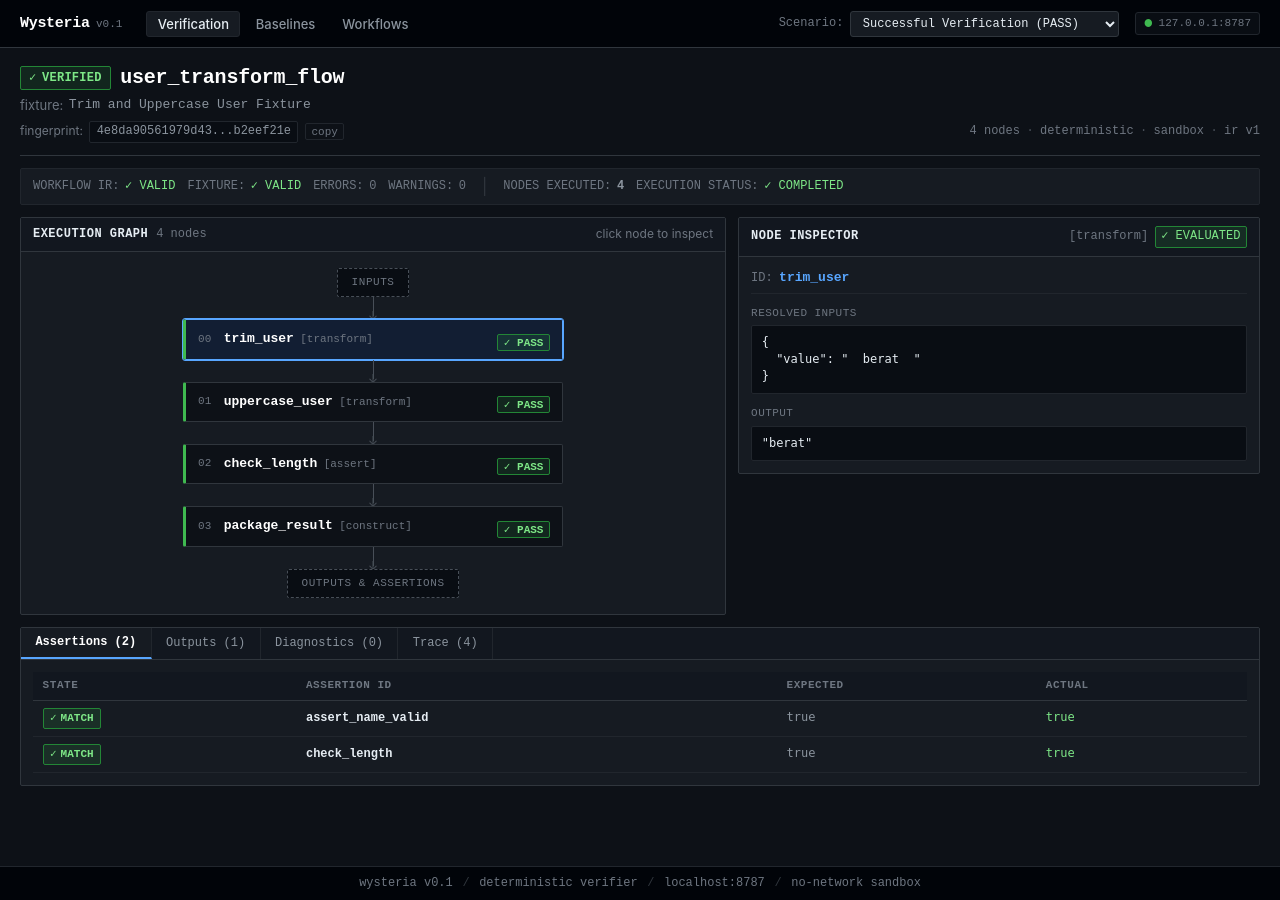
it: Wysteria Engineering UI & Integration › navigates between Verification, Workflows, and Baselines tabs
The image size is (1280, 900).
Note: Navigate to Workflows
Click the button "Workflows": (375, 24) [331,10,420,36]
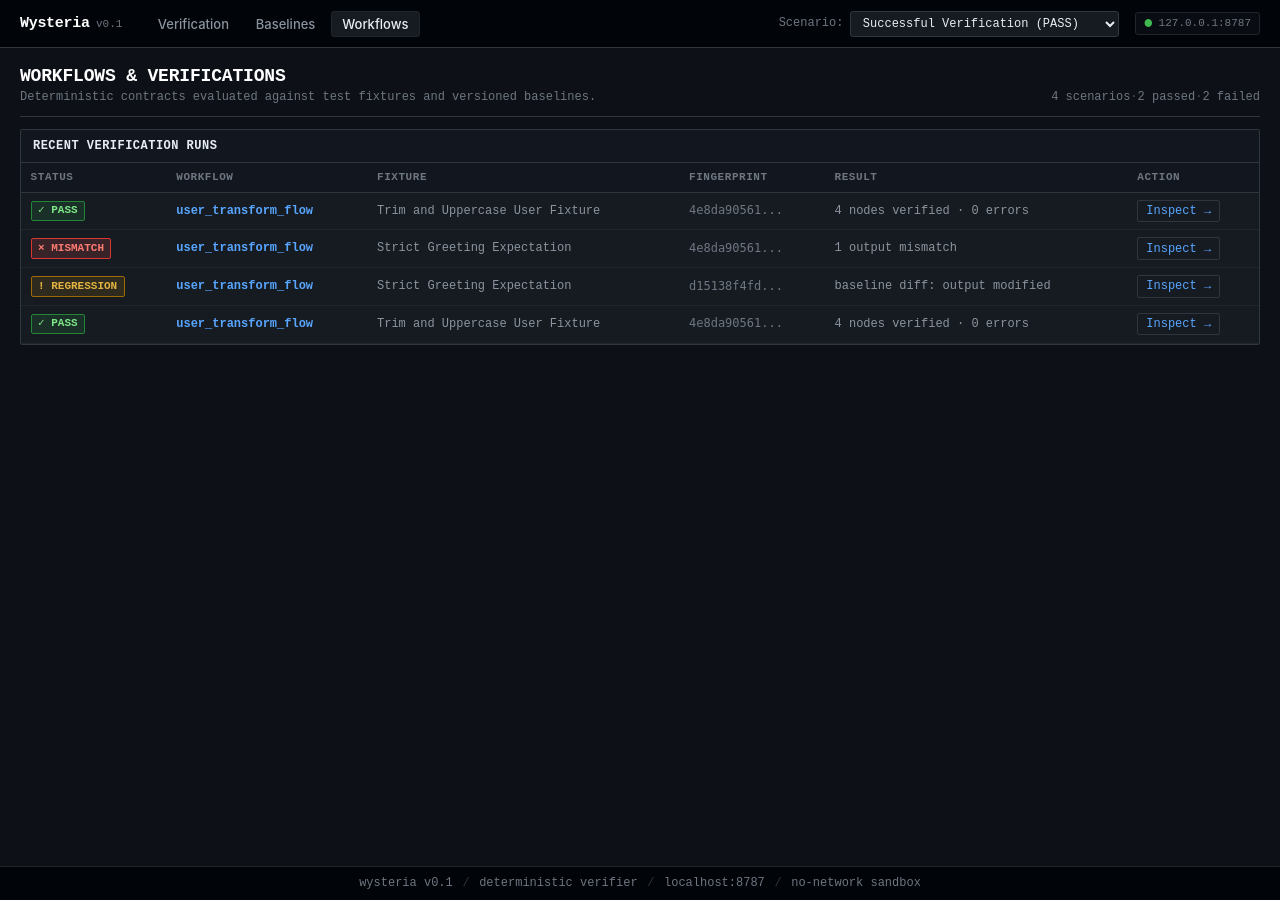
Now the heading "WORKFLOWS & VERIFICATIONS" is shown, box [20,66,286,86]
Now the text "RECENT VERIFICATION RUNS" is shown, box [33,138,217,154]
Note: Inspect first workflow from table
Click the 1st button "Inspect →": (1179, 211) [1137,200,1220,222]
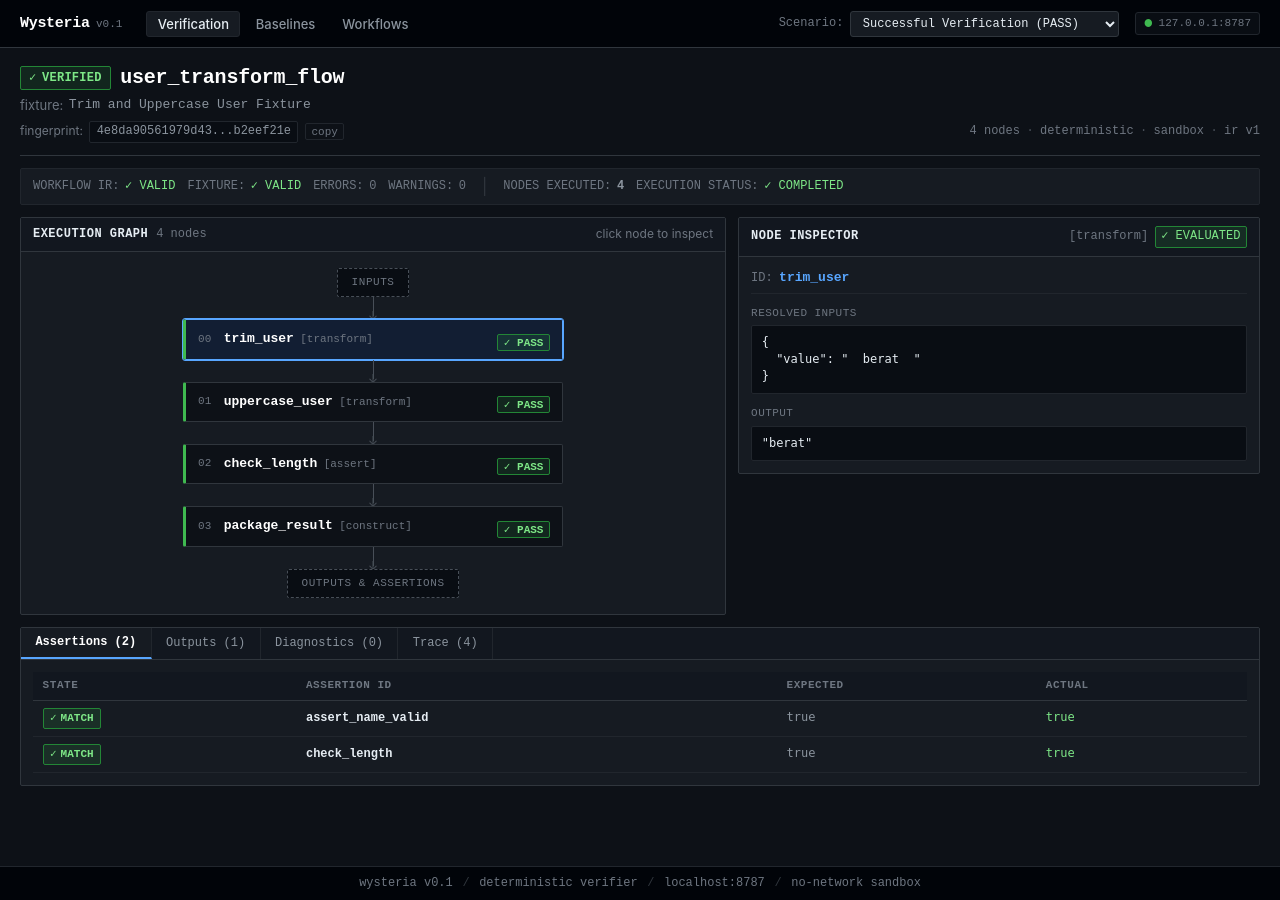
Now the element named "Verification Workspace" is shown
Note: Navigate to Baselines
Click the button "Baselines": (286, 24) [244,10,327,36]
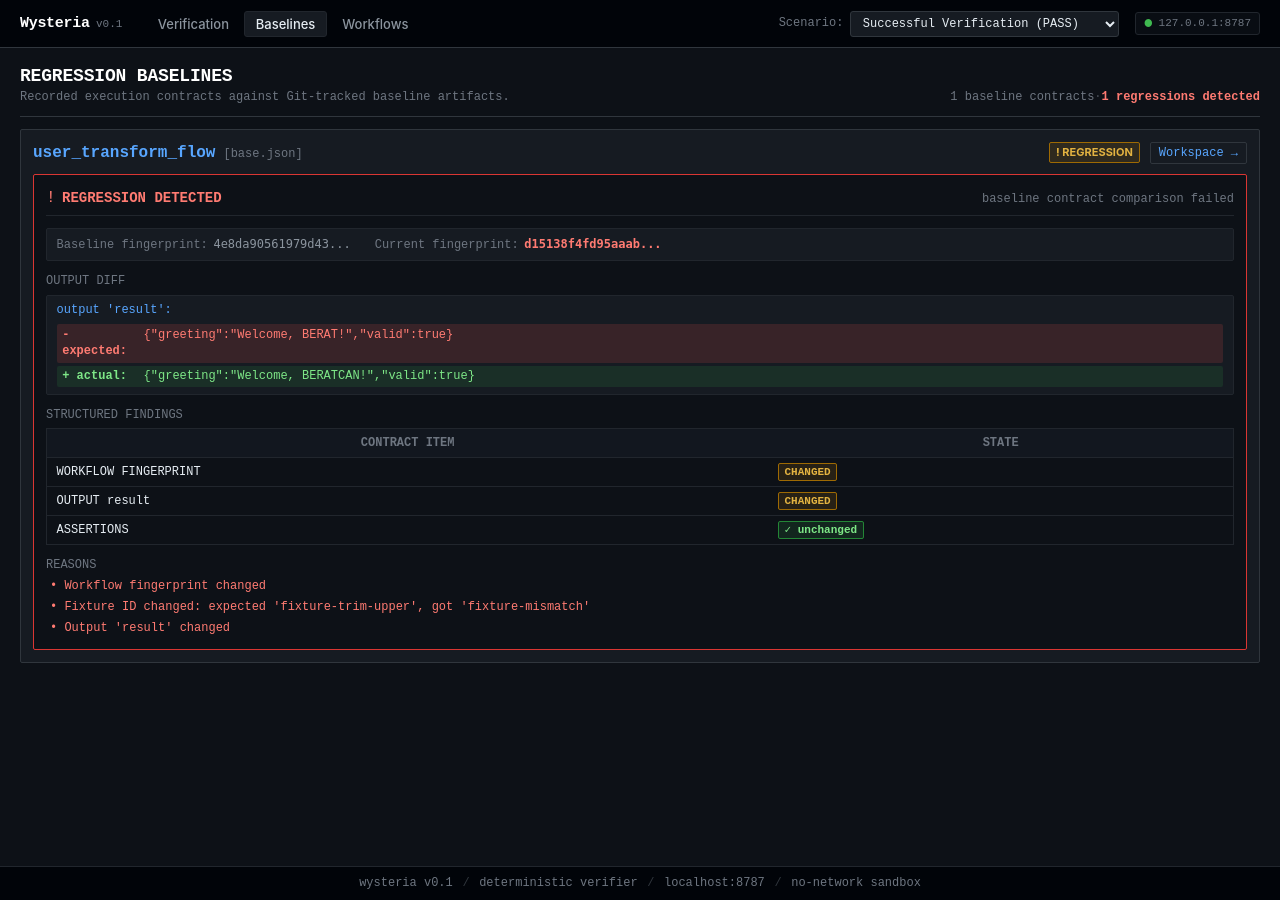
Now the heading "REGRESSION BASELINES" is shown, box [20,66,232,86]
